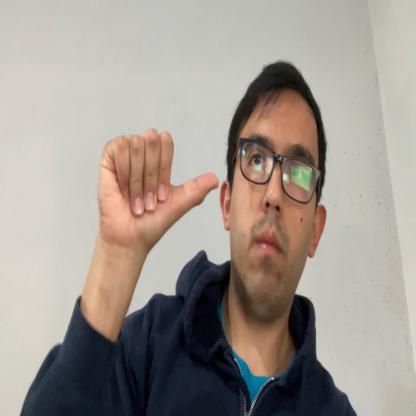A: (99, 126, 219, 249)
